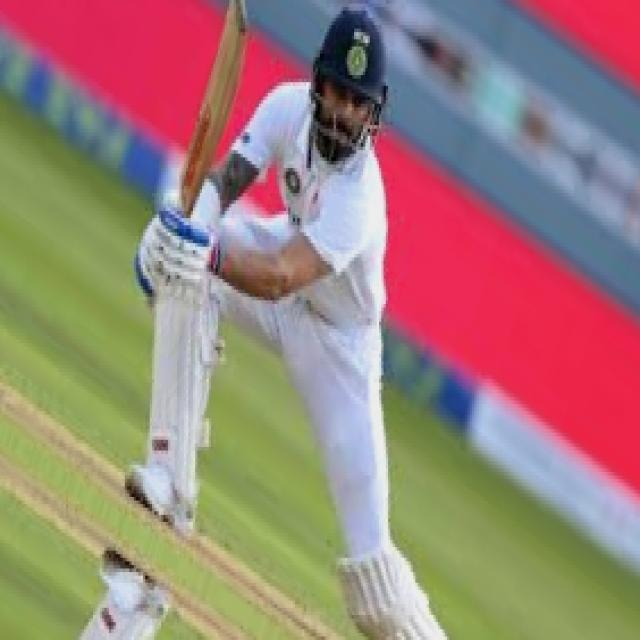bat: (177, 0, 253, 218)
toe: (234, 0, 252, 36)
